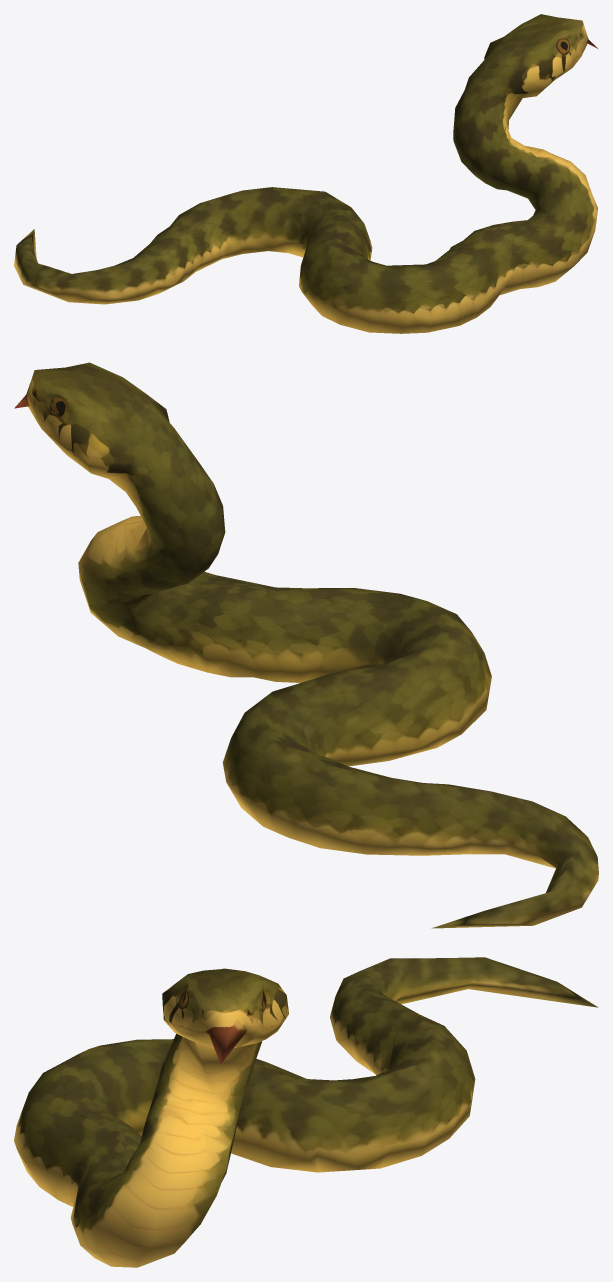
Rendered from yilan.glb.
3 renders of one model, top to bottom at view 1: azimuth 30°, elevation 25°; view 2: azimuth 150°, elevation 25°; view 3: azimuth 270°, elevation 25°, orthographic. The views are drawn at different scales.
Parts seen in each view (by area): view 1: tripo_node_f7996494-df8f-423b-95d0-f4fa57728a65; view 2: tripo_node_f7996494-df8f-423b-95d0-f4fa57728a65; view 3: tripo_node_f7996494-df8f-423b-95d0-f4fa57728a65.
Part boxes in pixels (x1=…): tripo_node_f7996494-df8f-423b-95d0-f4fa57728a65: x1=14, y1=14, x2=597, y2=333; tripo_node_f7996494-df8f-423b-95d0-f4fa57728a65: x1=14, y1=362, x2=598, y2=928; tripo_node_f7996494-df8f-423b-95d0-f4fa57728a65: x1=14, y1=957, x2=598, y2=1267.
Size of the model in its own units: 0.961 by 0.4054 by 0.6935.
1 material, 1 textured.
